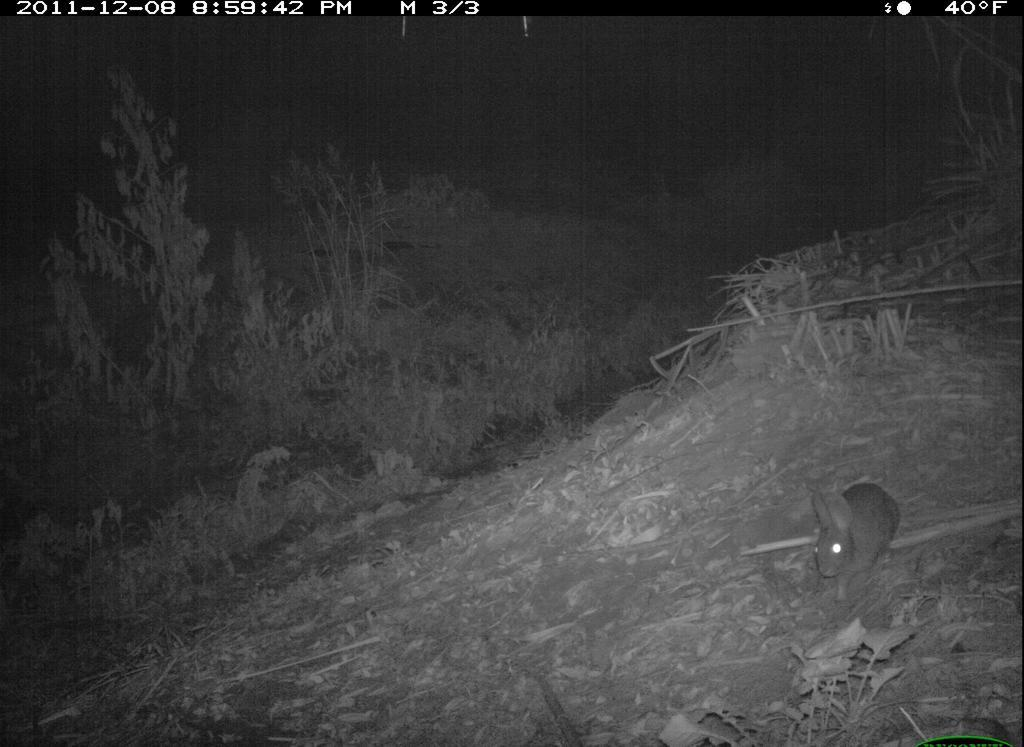rabbit: (808, 477, 905, 612)
